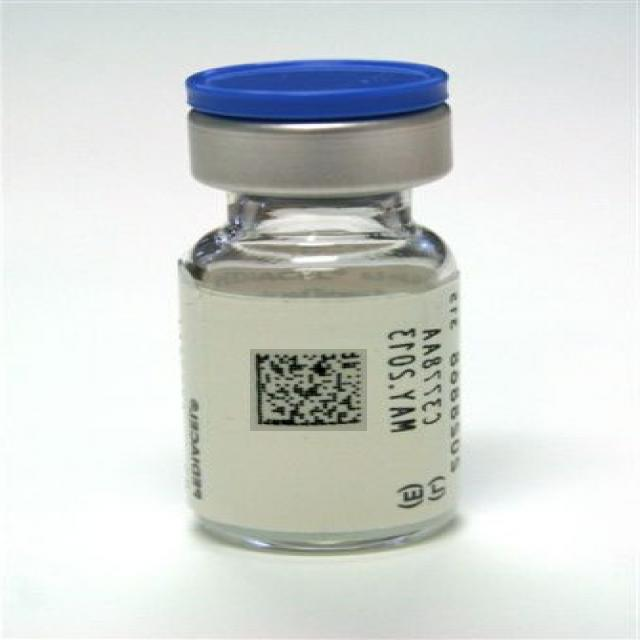DataMatrix: (250, 349, 367, 431)
